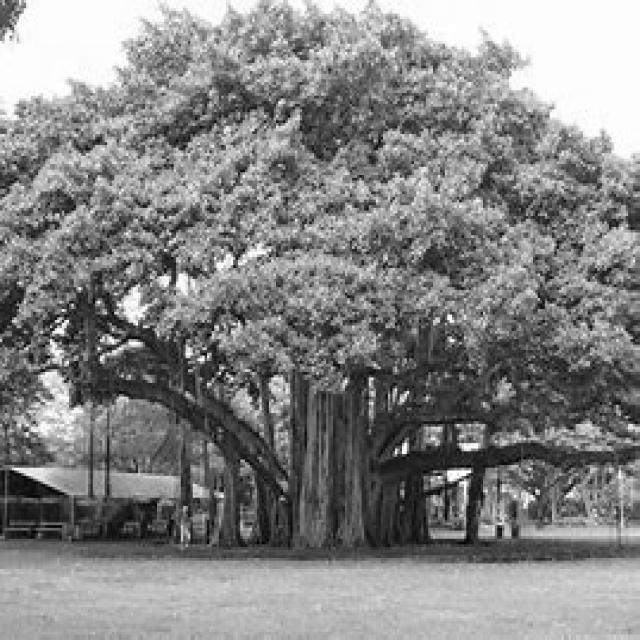Banyan-Tree: (0, 0, 640, 640), (63, 219, 572, 577)
